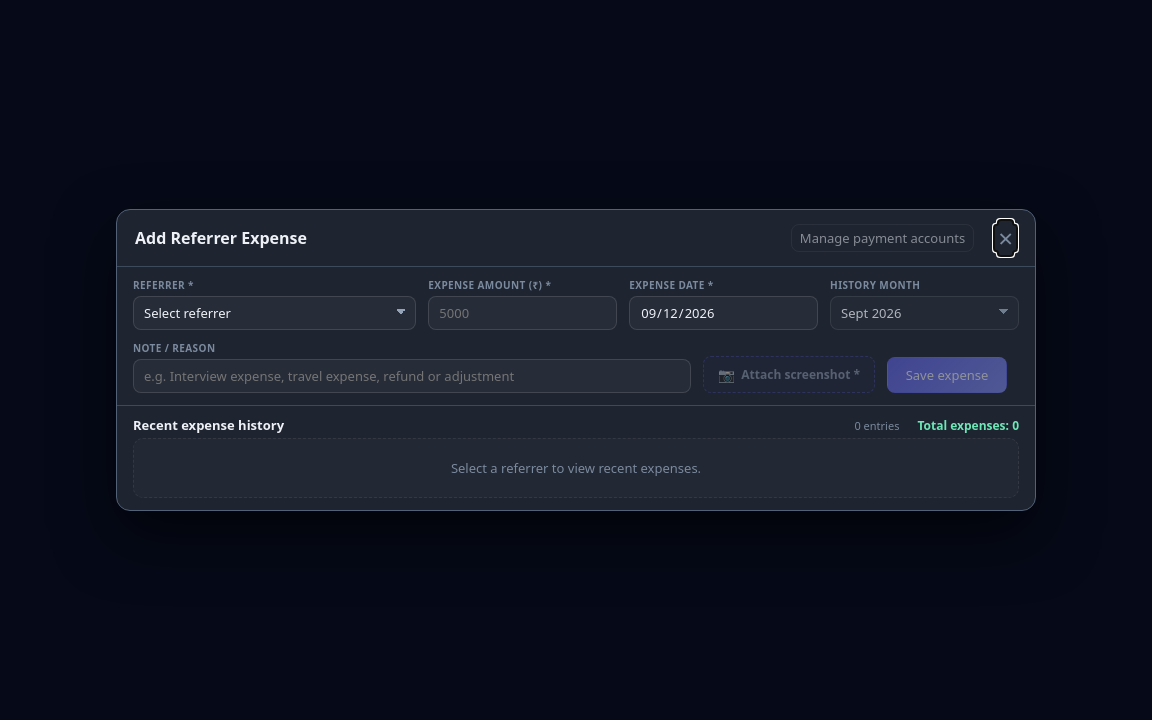
Scenario: referrer payment accounts › opens in a focused expense view and keeps payment accounts hidden
Expected: the heading "Add Referrer Expense" is shown, [135,227,307,249]
Expected: the number field labelled "Expense amount (₹) *" is disabled, [428,296,617,330]
Select "Sample Referrer" in the dropdown labelled "Referrer *" at [275, 313], box [133,296,416,330]
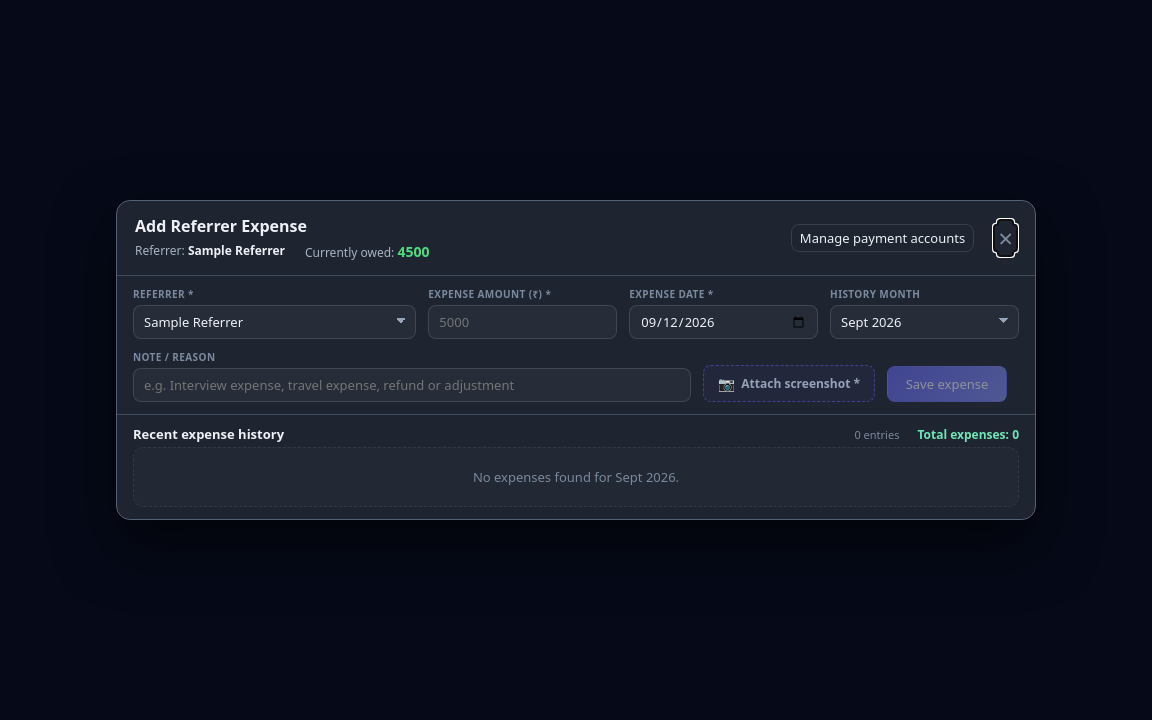
Expected: the button "Save expense" is disabled, [887,366,1007,402]
Now the text "4500" is shown, box [397,242,429,261]
